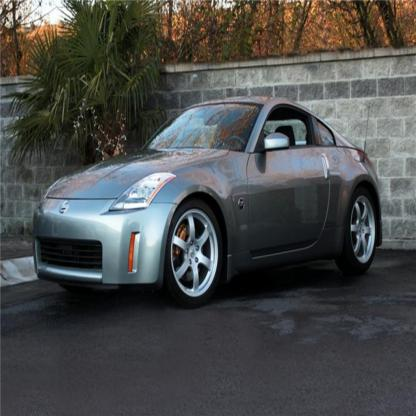Car: (32, 96, 383, 308)
